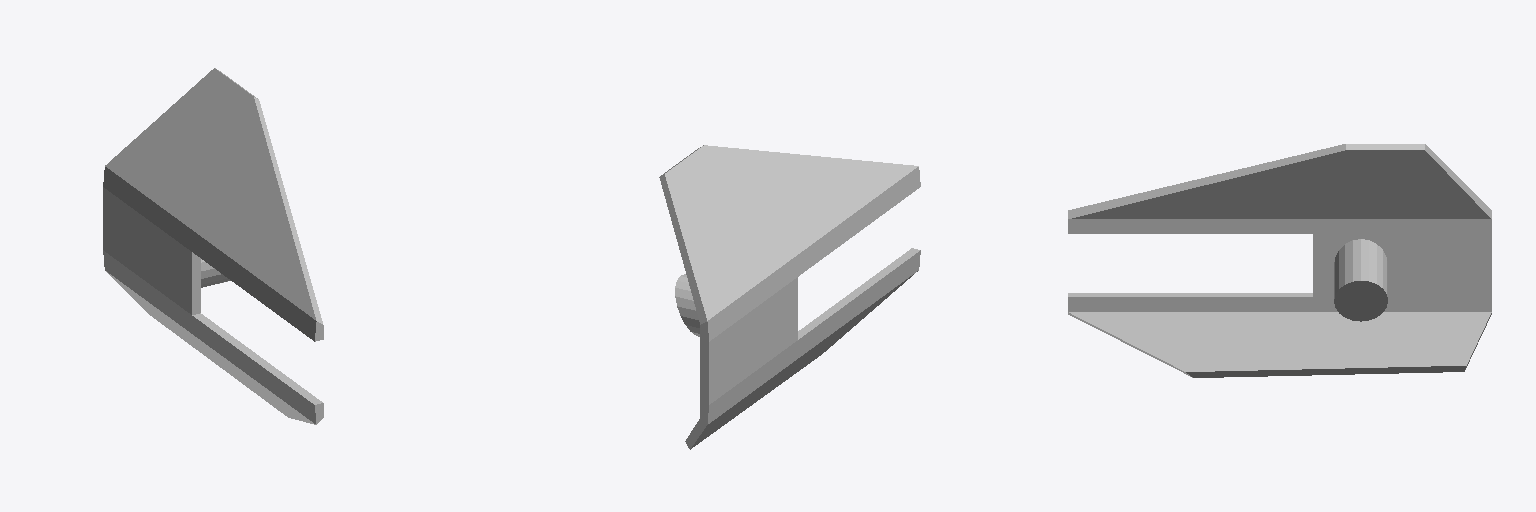
Rendered from vragquad1.obj.
3 renders of one model, left to right at view 1: azimuth 30°, elevation 25°; view 2: azimuth 150°, elevation 25°; view 3: azimuth 270°, elevation 25°, orthographic.
Parts seen in each view (by area): view 1: vrag; view 2: vrag; view 3: vrag.
Part boxes in pixels (left/top/right/bottom): vrag: left=103, top=68, right=323, bottom=424; vrag: left=659, top=145, right=920, bottom=449; vrag: left=1068, top=144, right=1491, bottom=377.
Bounding box in the file's own units: 2.85 × 7.37 × 11.09.